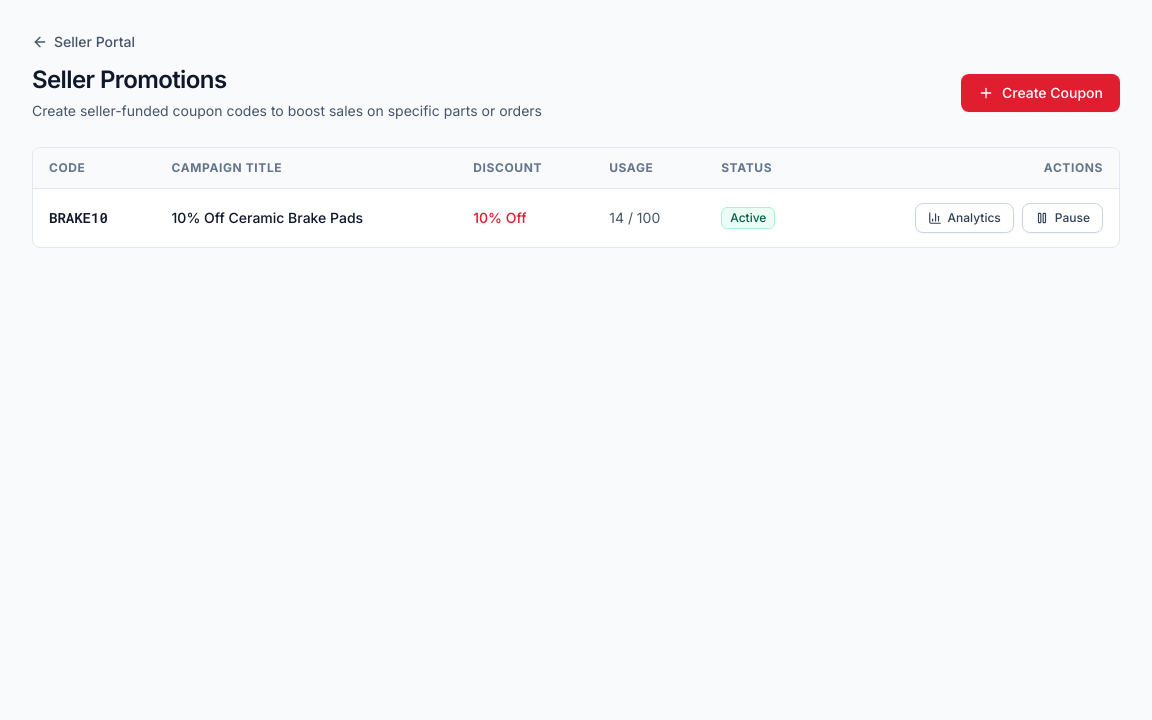
Test: MOD-04 Seller Promotions & Coupon Management Tests › Opens Promotion Analytics modal and displays redemption statistics
Expected: the text "BRAKE10" is shown, [33,188,156,247]
Click Analytics button
Click the button "Analytics": (964, 218) [915,203,1014,233]
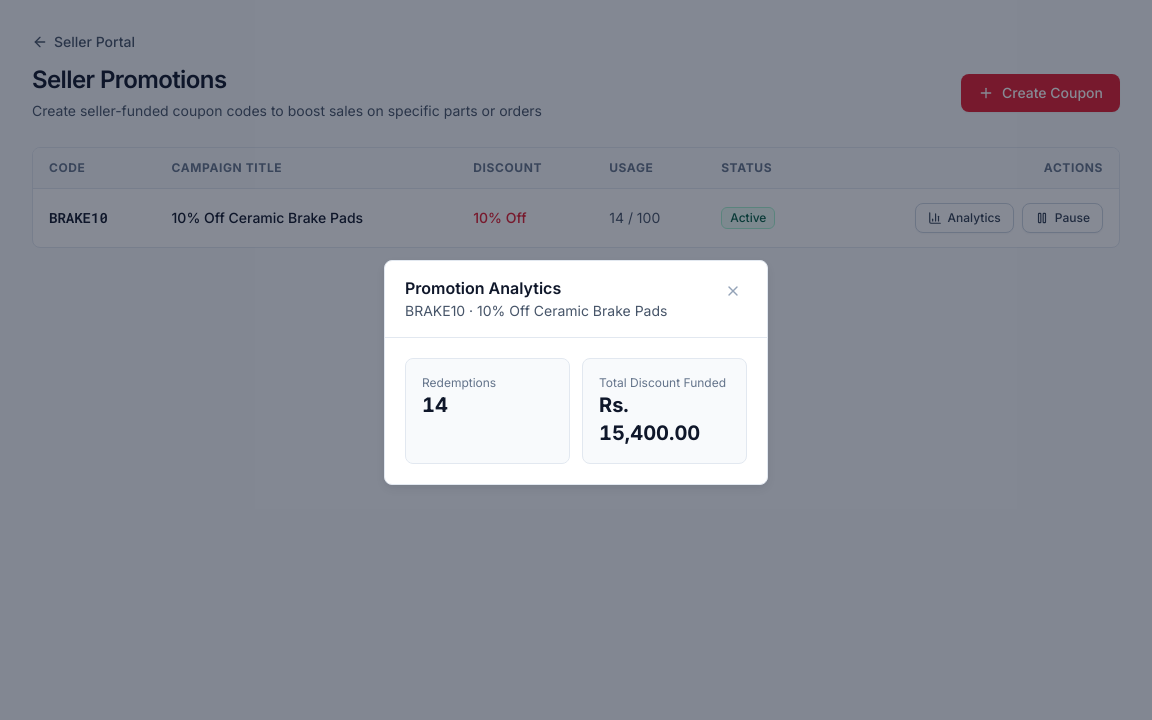
Result: the heading "Promotion Analytics" is shown at [405,278,561,298]
Result: the text "Total Discount Funded" is shown at [599,374,730,390]
